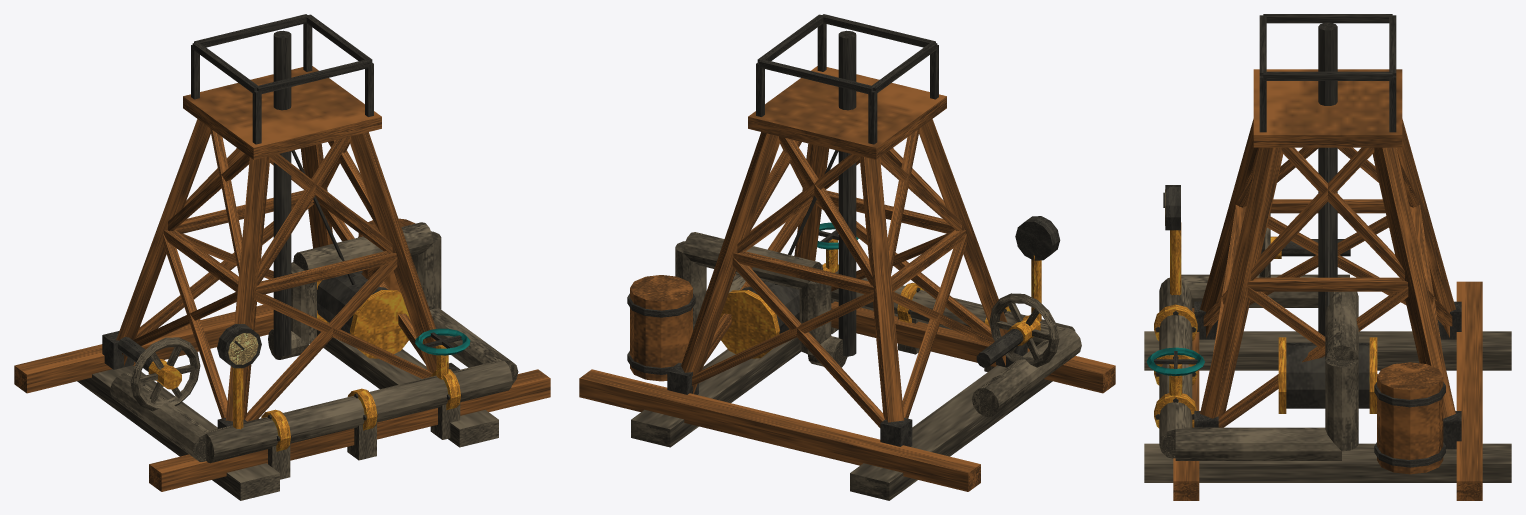
Rendered from derrick-06.glb.
3 renders of one model, left to right at view 1: azimuth 30°, elevation 25°; view 2: azimuth 150°, elevation 25°; view 3: azimuth 270°, elevation 25°, orthographic. The views are drawn at different scales.
Parts seen in each view (by area): view 1: derrick-06; view 2: derrick-06; view 3: derrick-06.
Boxes of the visible parts, x1,y1,x2,y2 form: derrick-06: [14, 14, 550, 500]; derrick-06: [579, 14, 1115, 500]; derrick-06: [1144, 14, 1511, 500].
Size of the model in its own units: 5.4 by 4.92 by 4.2.
1 material, 1 textured.
